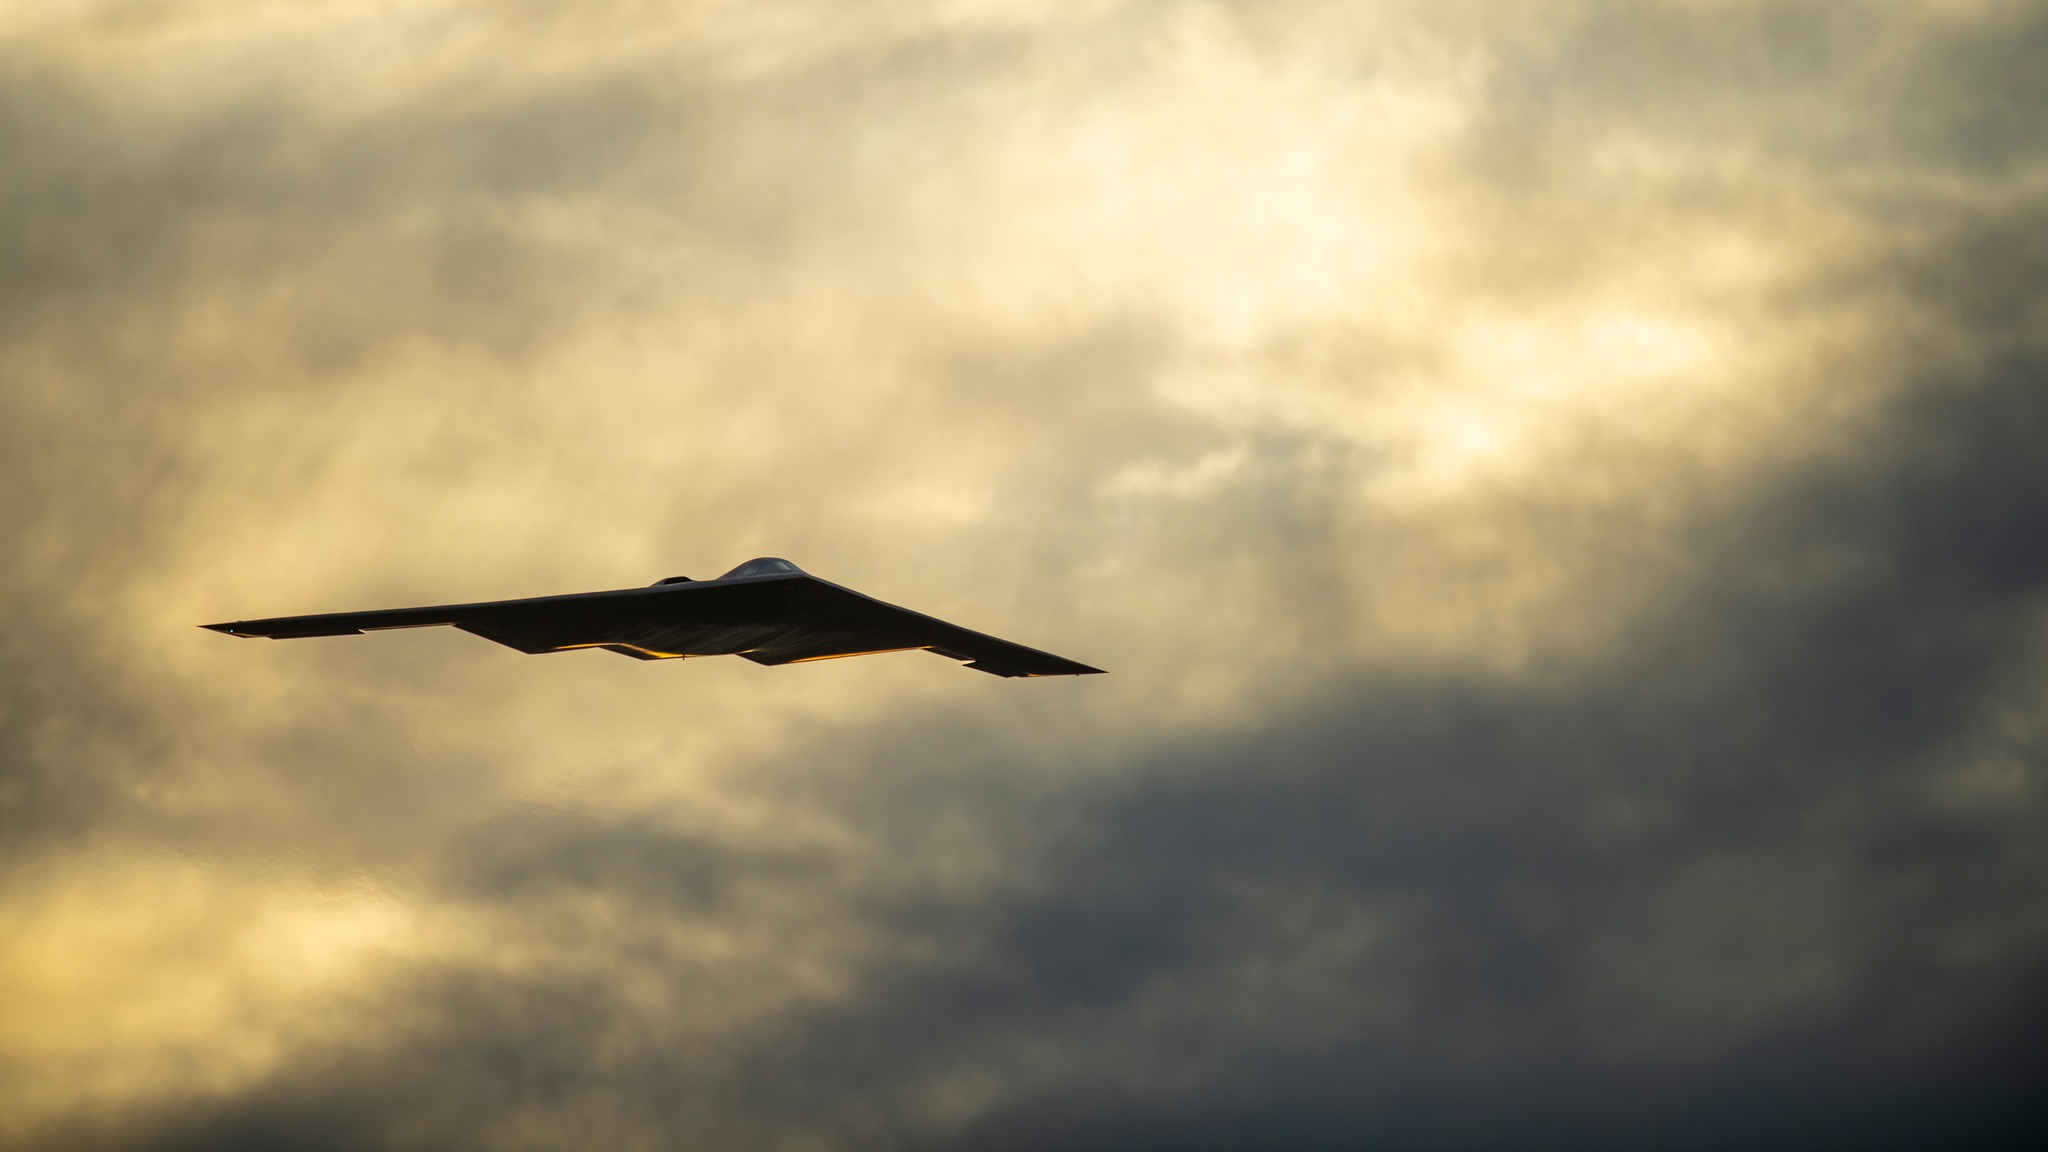B2: (196, 556, 1111, 679)
